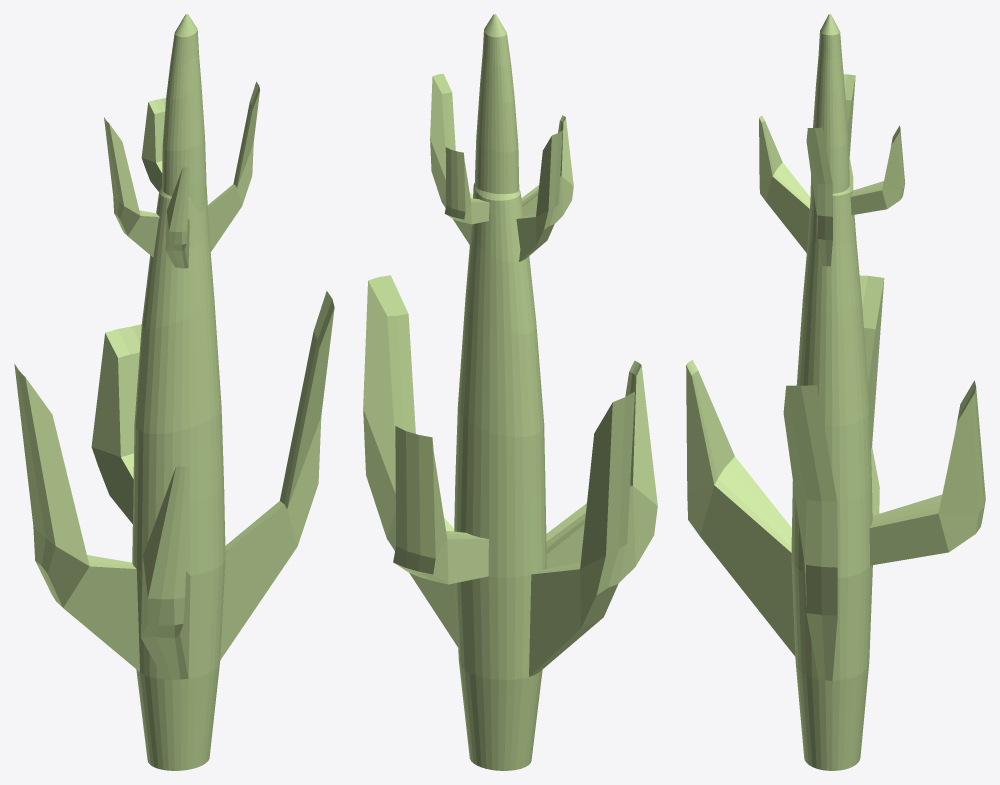
File: kaktuz.fbx
The picture shows the model from 3 angles, left to right: view 1: azimuth 30°, elevation 25°; view 2: azimuth 150°, elevation 25°; view 3: azimuth 270°, elevation 25°; orthographic projection.
Parts seen in each view (by area): view 1: Cube; view 2: Cube; view 3: Cube.
Boxes of the visible parts, box(x1,y1,x2,y2) form: Cube: box(14, 14, 334, 770); Cube: box(363, 14, 657, 770); Cube: box(686, 14, 985, 770).
Size of the model in its own units: 166 by 415 by 151.
